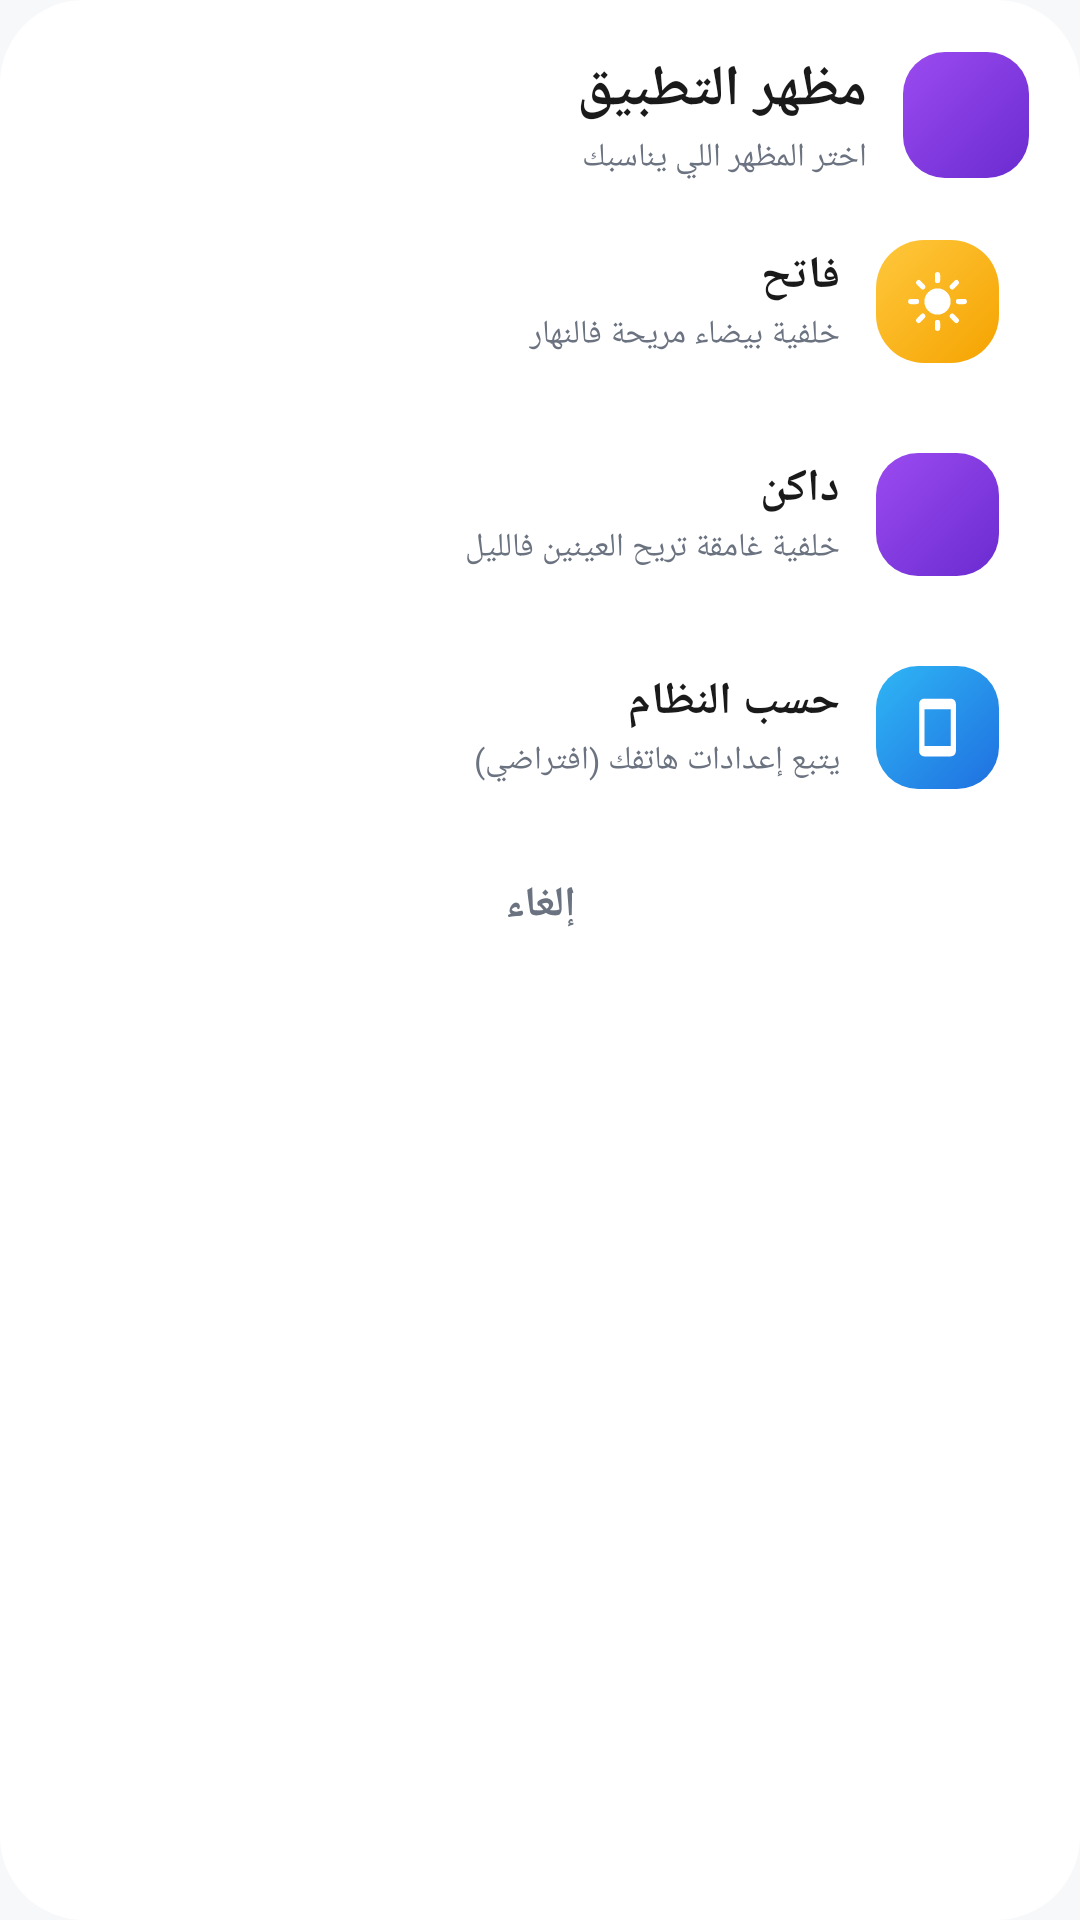

Screen size 1080×1920. Icon name, then its center in pixels as (x,y):
smartphone: (937,727)
sun: (937,301)
